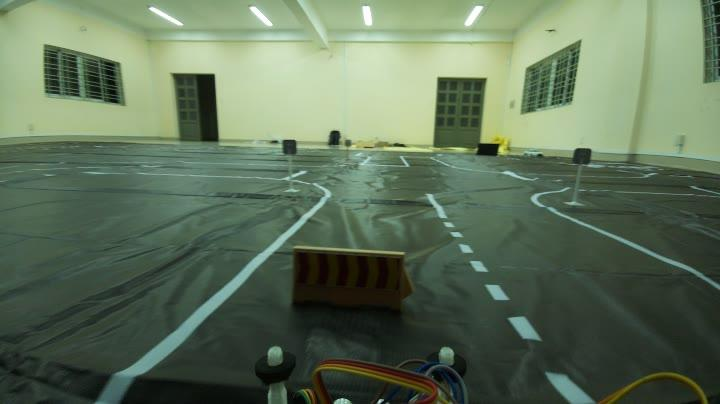roadblock: (290, 239, 426, 316)
